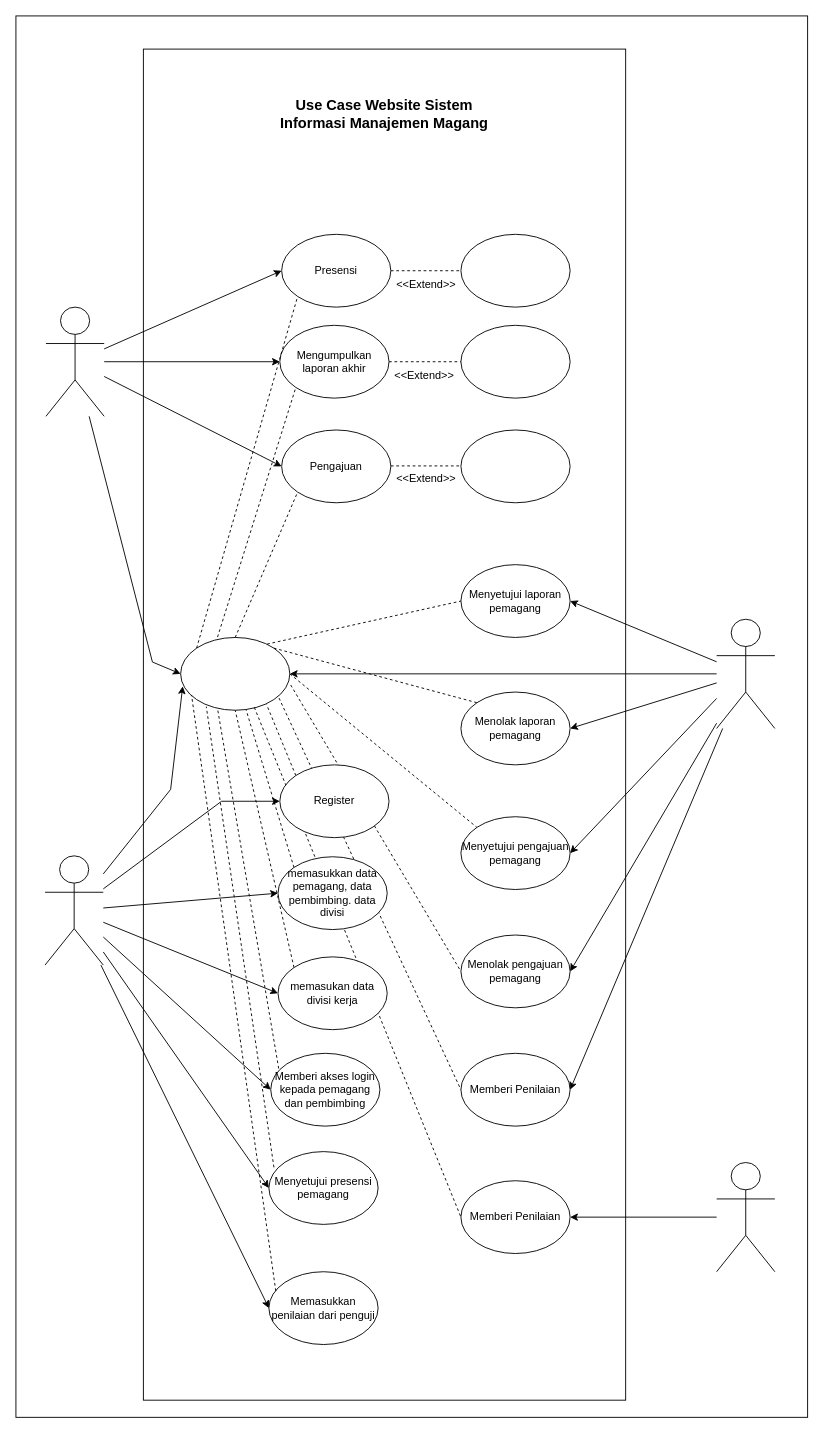
This 824x1433 diagram has some shape labels left out. The shapes that lost their labels are listed below. From the top down, each one's centre as x and y in pixels, then its label:
the point at 515,270: Bukti Presensi
the point at 74,361: Pemagang
the point at 515,361: Dokumen laporan akhir
the point at 515,466: Surat keterangan sakit/izin
the point at 235,673: Login
the point at 745,673: Pembimbing
the point at 73,910: Admin
the point at 745,1217: Penguji
